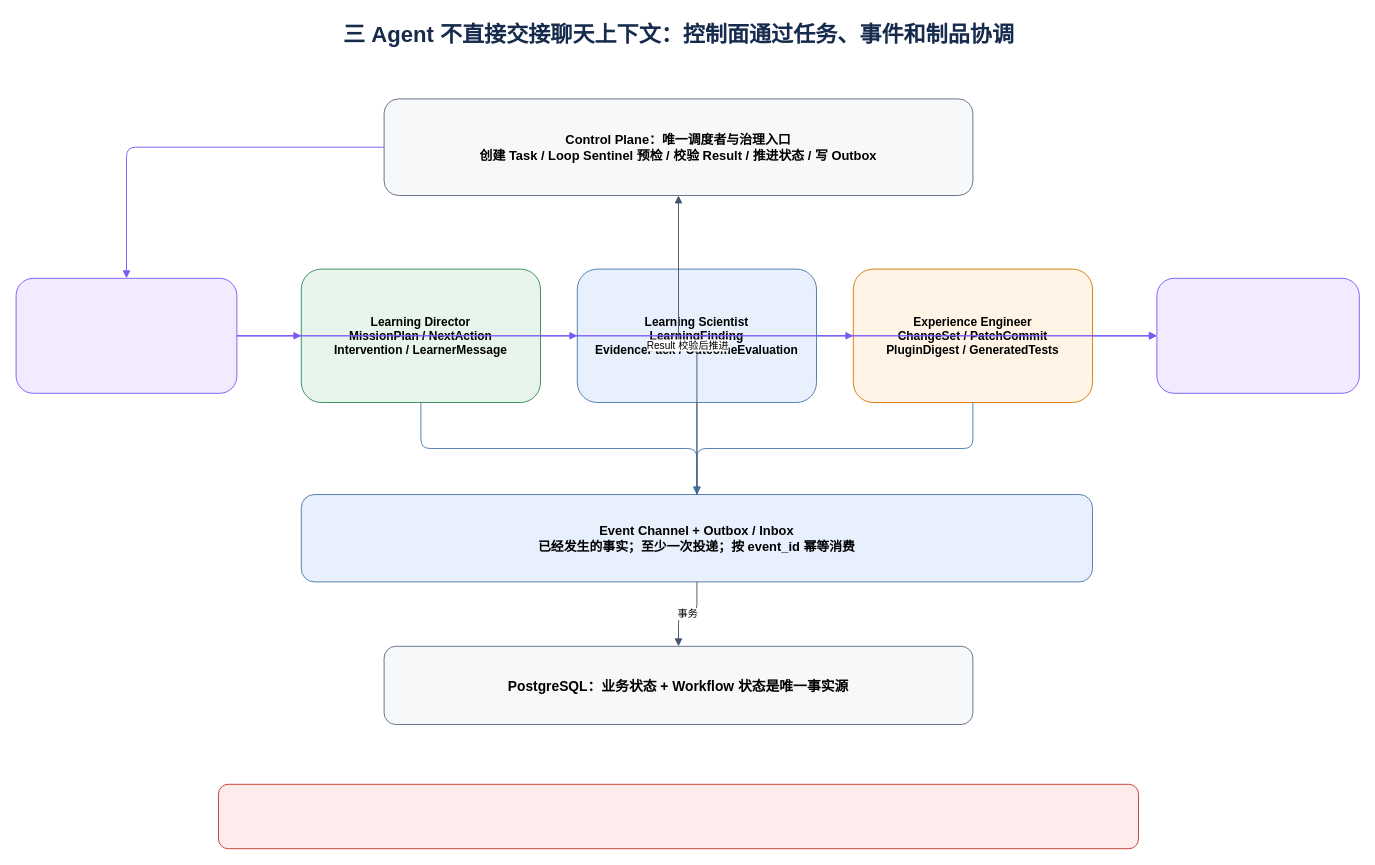
This 1375x865 diagram has some shape labels left out. The box of each missing label's shape, as (x1, y1, x2, y2) in pixels:
Artifact Registry 作品 / 证据包 / Git Commit 报告 / Dataset / OCI Digest: (1156, 277, 1359, 393)
Governed Task Channel Parent / Hop / Fingerprint Lease / Retry / Budget: (15, 277, 237, 393)
禁止：Agent 直接改另一个 Agent 状态 / 依赖聊天历史恢复 / 在消息中塞大对象 / 自审自批: (218, 783, 1138, 849)
